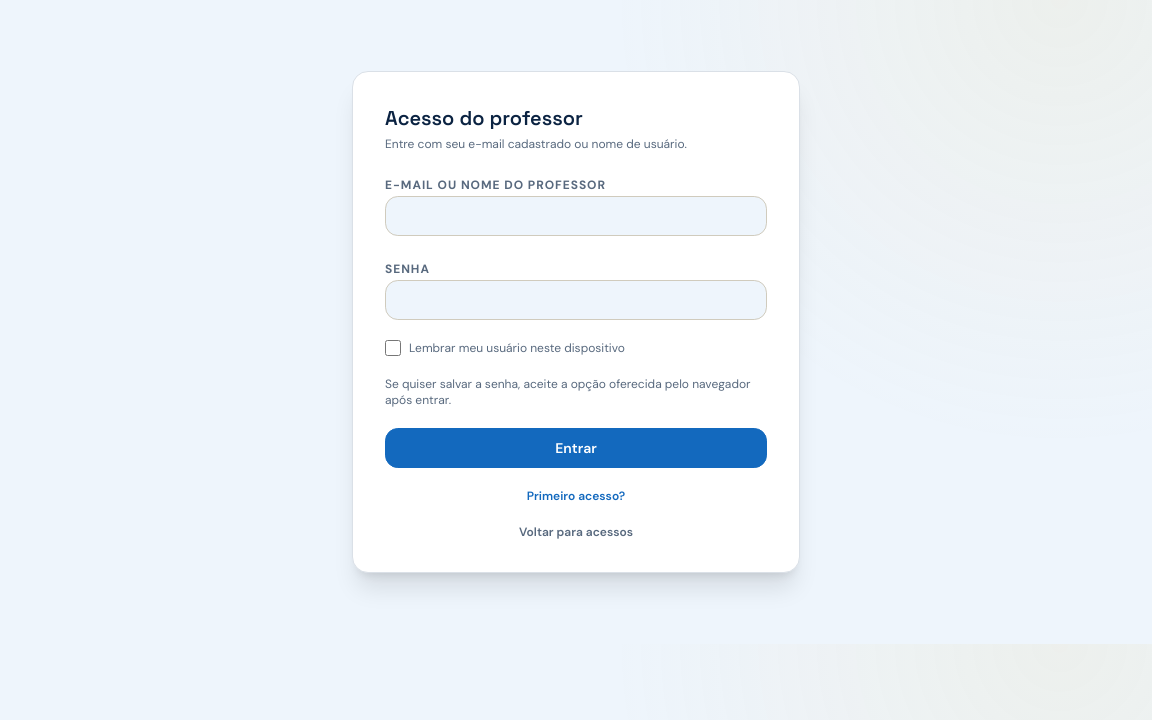
Test: Teacher first access › does not show password inputs for an unregistered email and directs them to TI/admin
This screenshot has width=1152, height=720.
Click the button "Primeiro acesso?". click: point(576, 496)
box: [385,488,767,504]
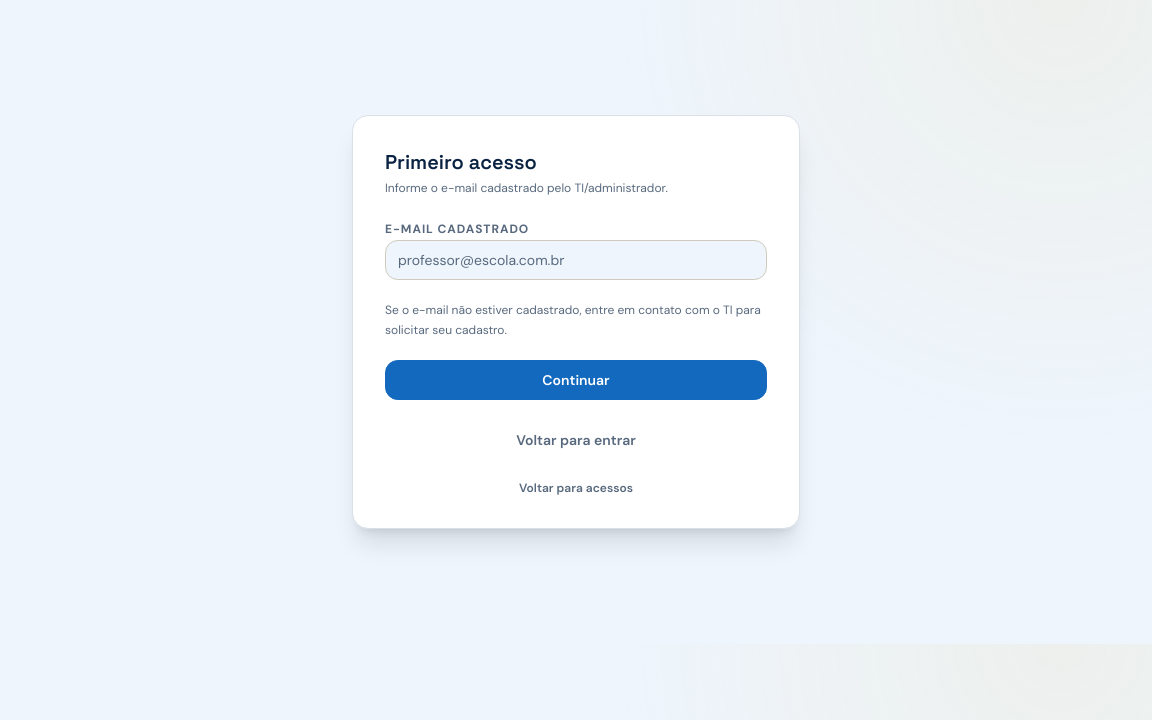
Type "novo@escola.com.br" into the field labelled "E-mail cadastrado". click: point(576, 260)
box: [385,240,767,280]
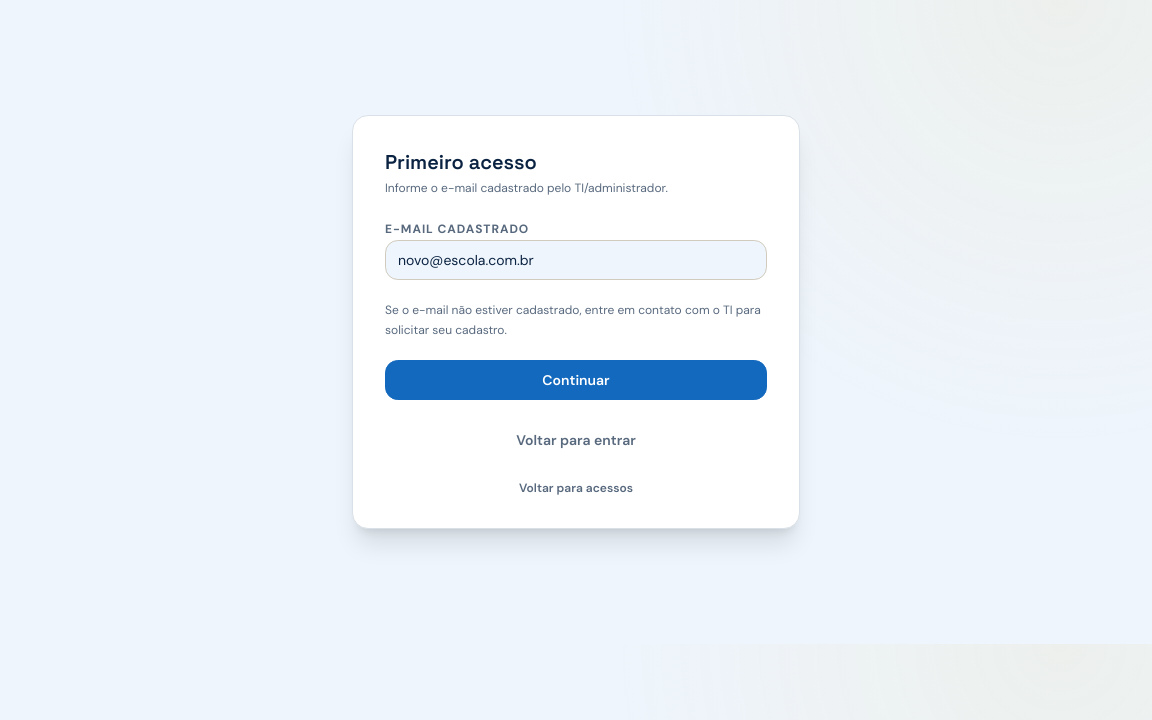
Click the button "Continuar". click: point(576, 380)
box: [385,360,767,400]
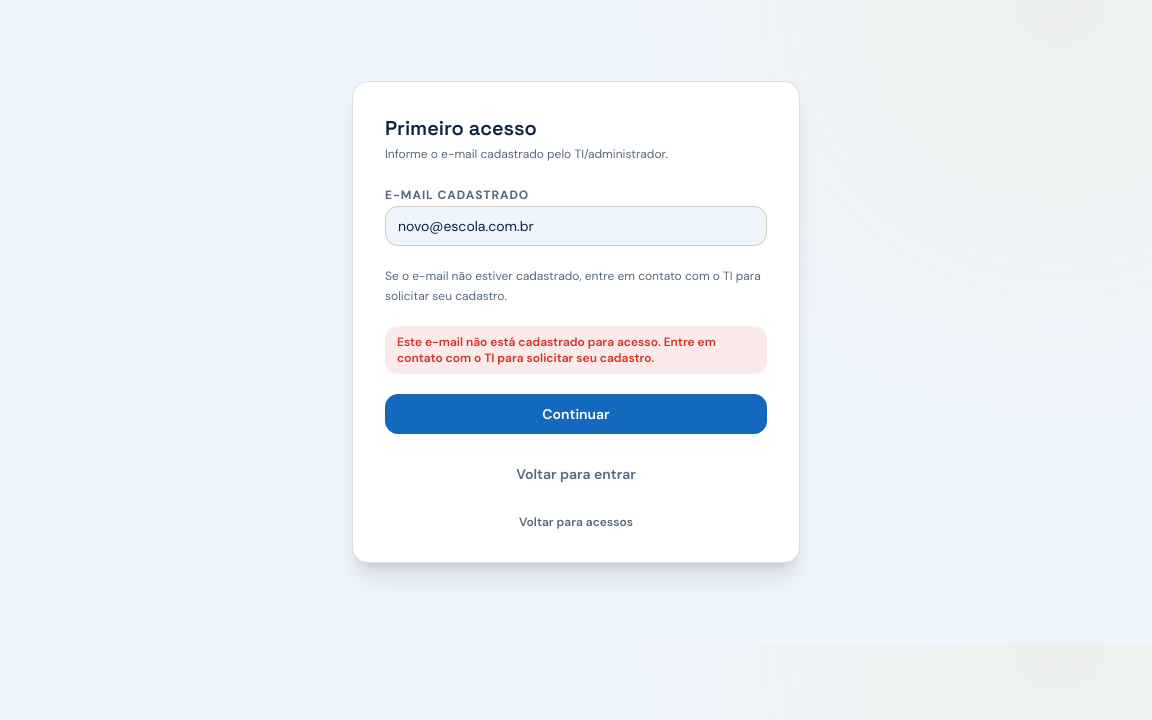
Check: the message shows "Entre em contato com o TI para solicitar seu cadastro.", box [397,334,716,366]
